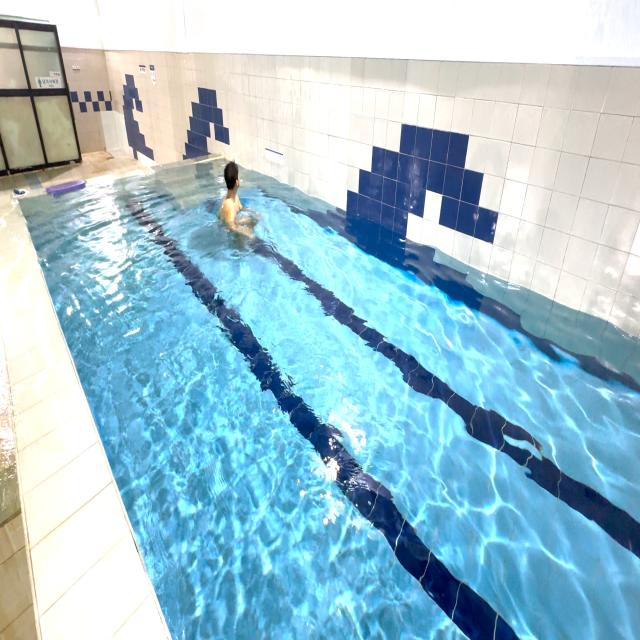Swimming: (212, 156, 262, 258)
